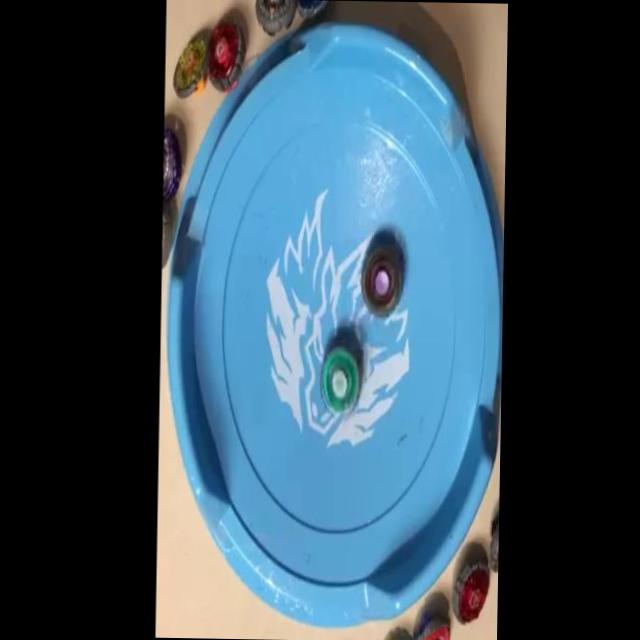Beyblade: (360, 244, 402, 320), (206, 21, 245, 94), (320, 346, 360, 416), (451, 558, 489, 624), (171, 37, 209, 98)
